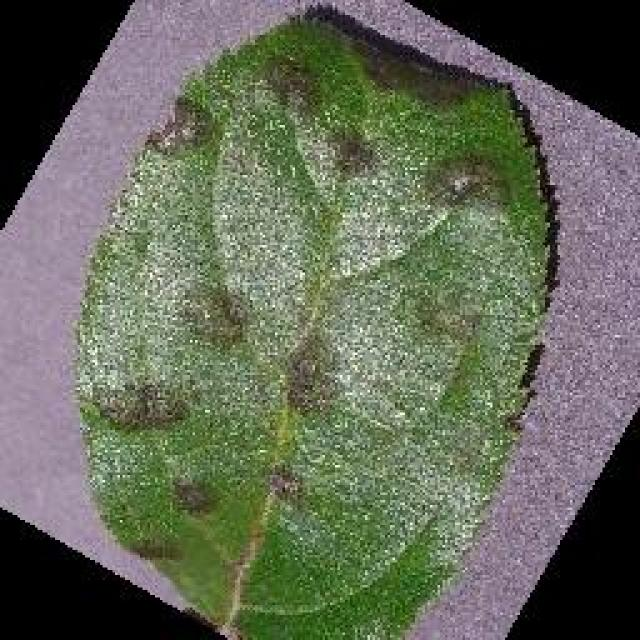apple scab disease: (68, 5, 558, 637)
